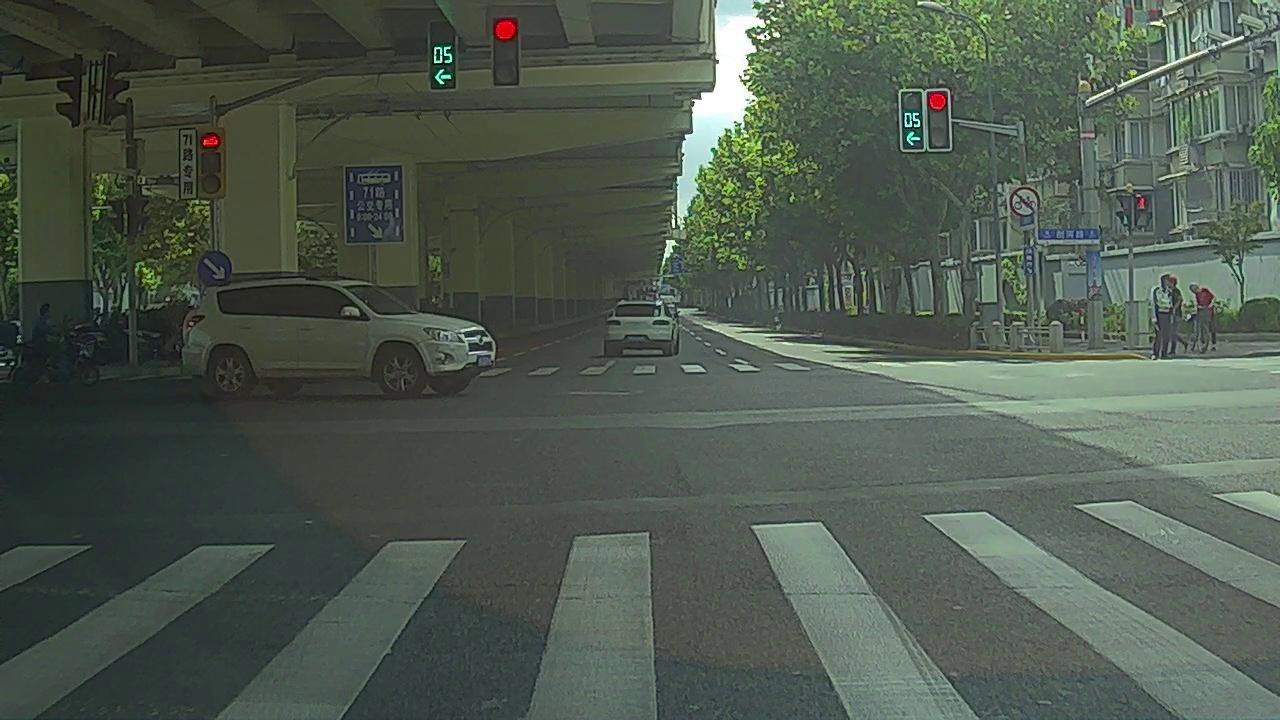traffic_light: (495, 18, 519, 88), (430, 23, 455, 90), (901, 88, 925, 150), (926, 89, 950, 150)
